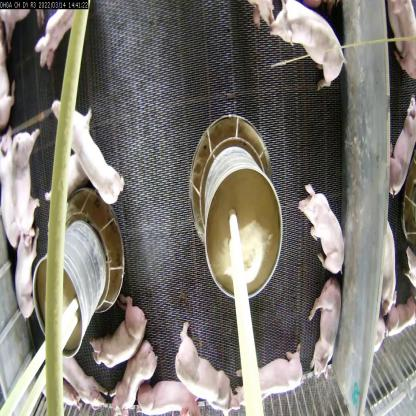Pig: (49, 91, 129, 213), (262, 0, 348, 94), (172, 317, 241, 415), (292, 174, 354, 281), (231, 339, 306, 410), (84, 292, 150, 370), (308, 276, 346, 385), (106, 337, 158, 415), (34, 2, 86, 80), (42, 143, 88, 222), (53, 352, 112, 411), (12, 130, 42, 246), (390, 91, 416, 214), (13, 226, 44, 328), (0, 125, 23, 252), (385, 0, 416, 90), (137, 374, 205, 415), (38, 370, 86, 416), (0, 2, 46, 49), (380, 220, 396, 318), (384, 292, 416, 340), (401, 242, 416, 297)
